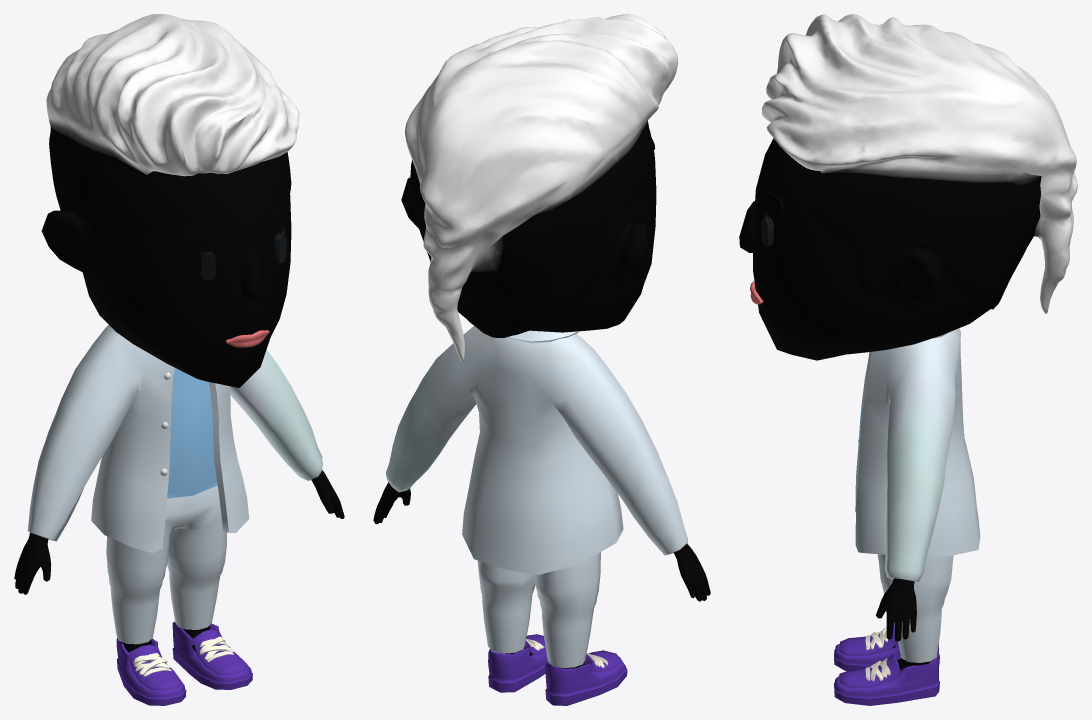
The model's file is boy_15.fbx.
3 renders of one model, left to right at view 1: azimuth 30°, elevation 25°; view 2: azimuth 150°, elevation 25°; view 3: azimuth 270°, elevation 25°, orthographic. The views are drawn at different scales.
Visible parts, largest first — view 1: Boy_15; view 2: Boy_15; view 3: Boy_15.
Boxes of the visible parts, x1,y1,x2,y2 form: Boy_15: (14,14,344,705); Boy_15: (373,14,710,705); Boy_15: (739,14,1077,705).
Size of the model in its own units: 95.91 by 180 by 86.7.
